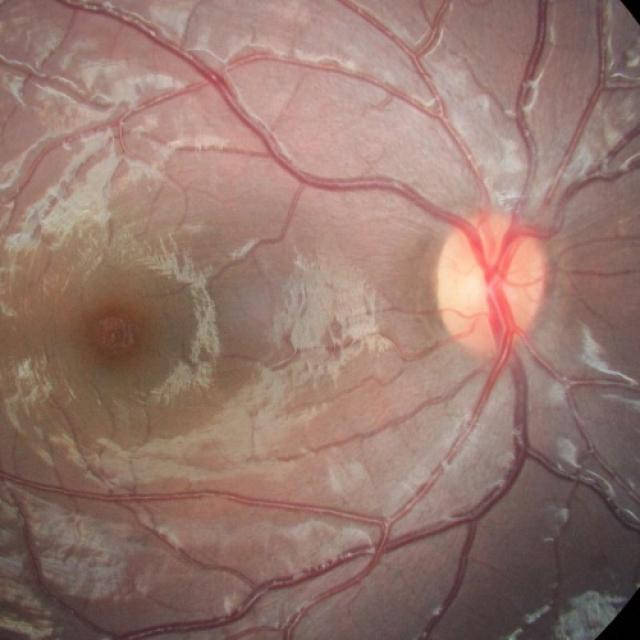OC: (462, 268, 498, 309)
OD: (435, 212, 546, 350)
